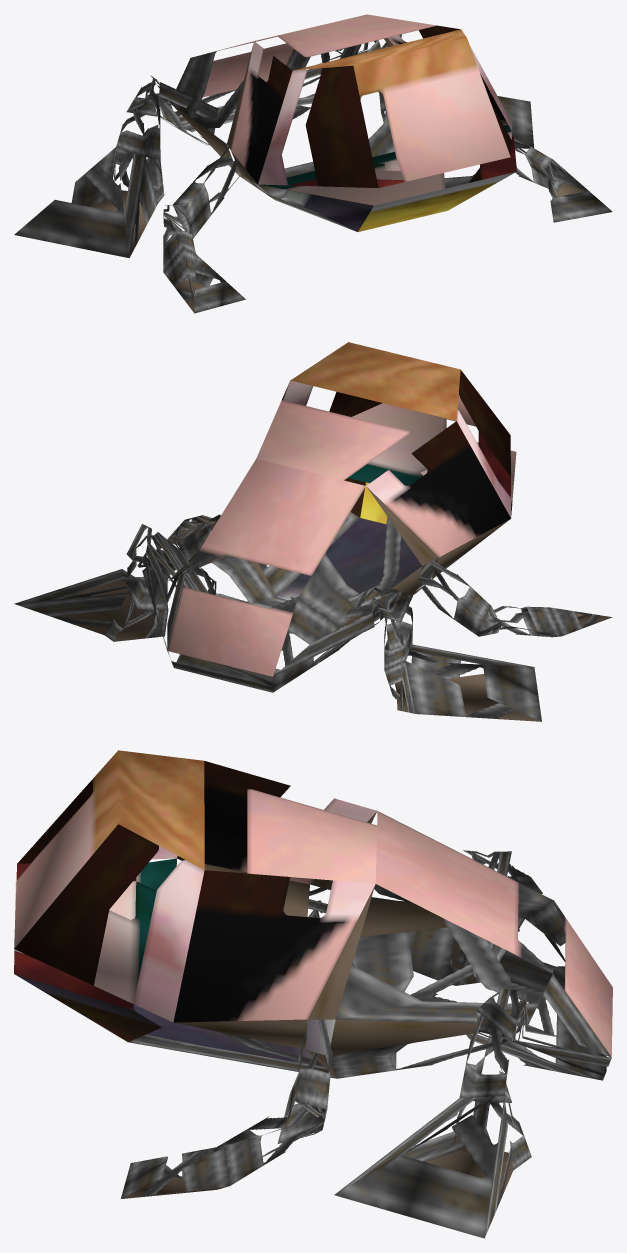
3 views of the same model, one above another, from view 1: azimuth 30°, elevation 25°; view 2: azimuth 150°, elevation 25°; view 3: azimuth 270°, elevation 25° (orthographic). The views are drawn at different scales.
Parts seen in each view (by area): view 1: T1L2M002_23; view 2: T1L2M002_23; view 3: T1L2M002_23.
Boxes of the visible parts, x1,y1,x2,y2 form: T1L2M002_23: (14,14,612,313); T1L2M002_23: (14,342,612,721); T1L2M002_23: (14,750,612,1238).
Size of the model in its own units: 1.26 by 0.4966 by 0.9313.
